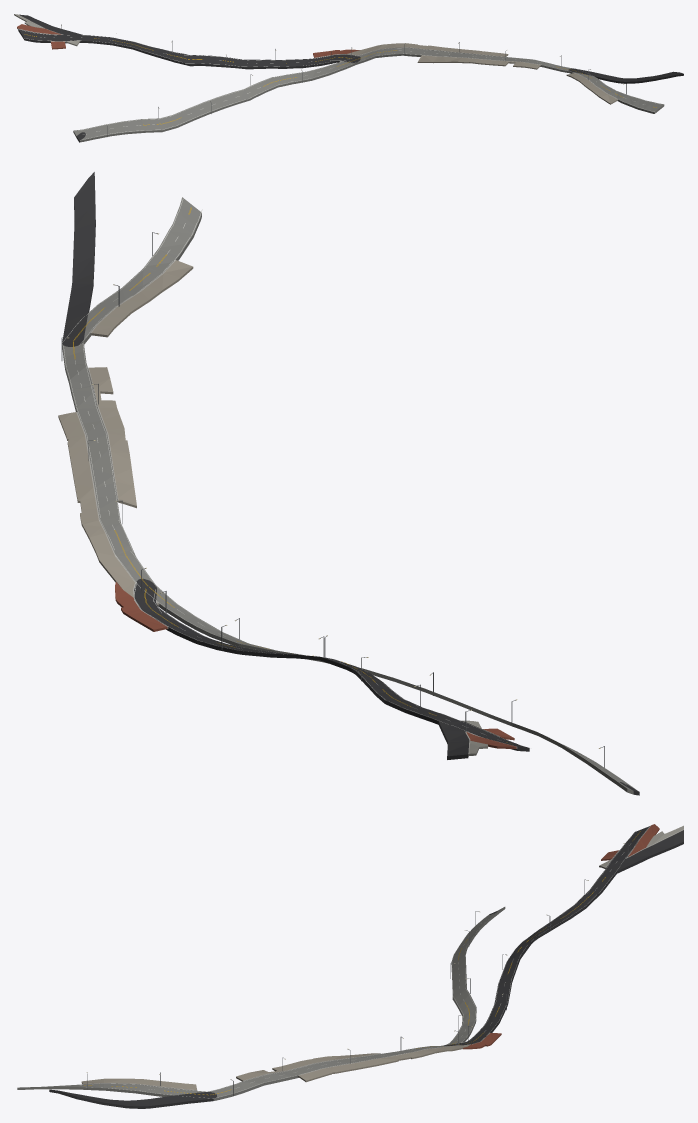
3 renders of one model, top to bottom at view 1: azimuth 30°, elevation 25°; view 2: azimuth 150°, elevation 25°; view 3: azimuth 270°, elevation 25°, orthographic. The views are drawn at different scales.
Bounding box in the file's own units: 295 × 53.42 × 293.
